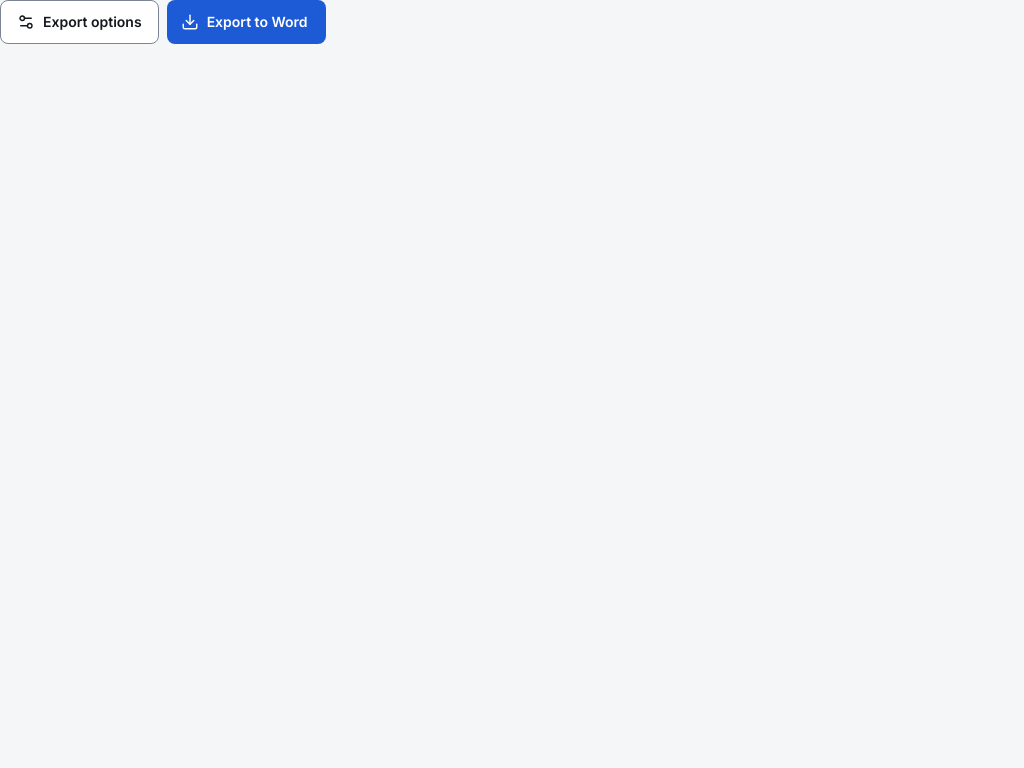
ExportOptions › saves, loads and deletes a preset; Default can't be deleted
Later steps or results of the test are not shown.
Step 1. Click the button "Export options" → (79, 22), box [0,0,159,44]
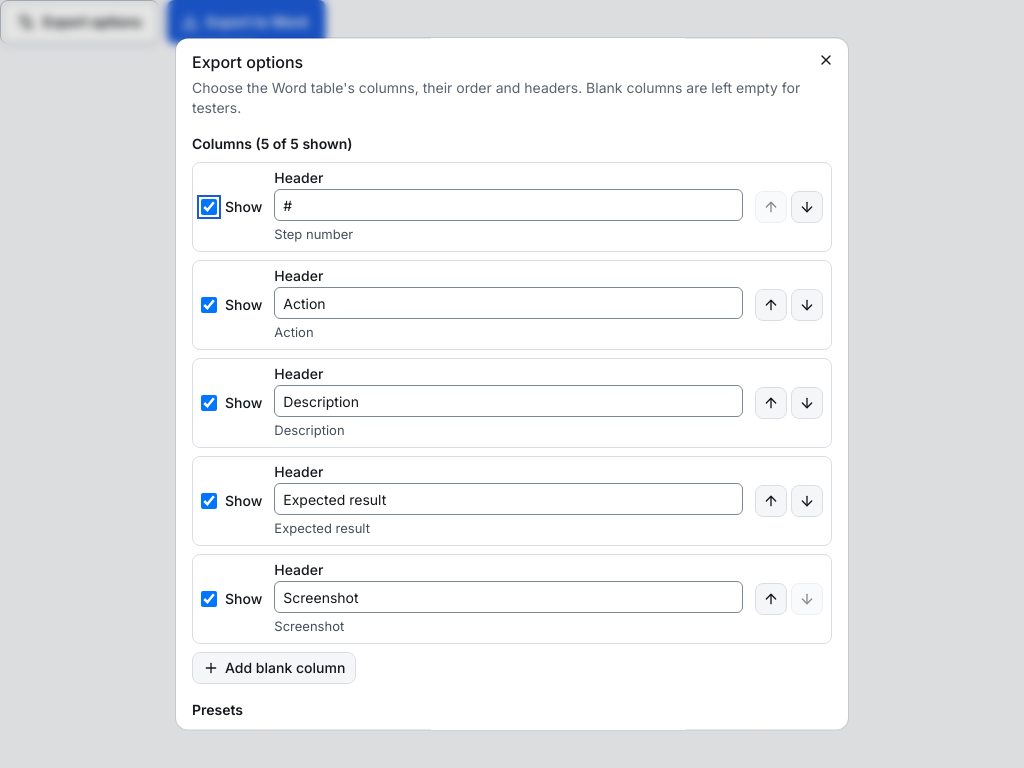
Step 2. Replace the text in the field named "Header for Action column" with "Step" → (509, 303), box [274,287,743,319]
(page scrolled)
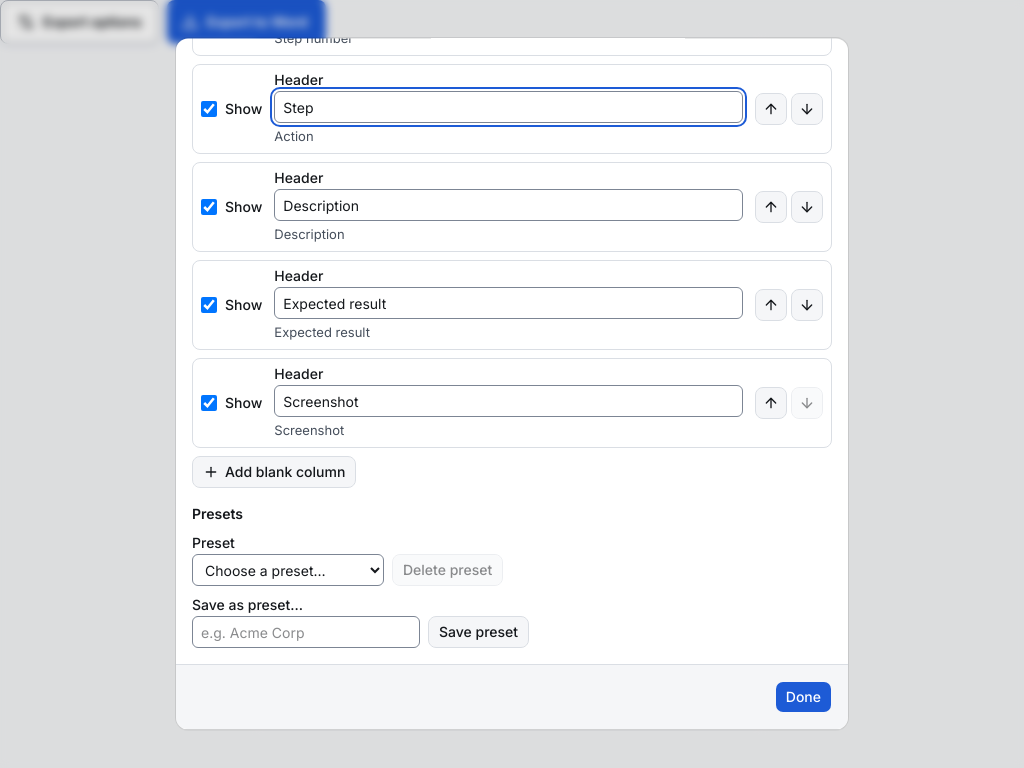
Step 3. Type "Acme Corp" into the field labelled "Save as preset…" → (306, 632), box [192,616,420,648]
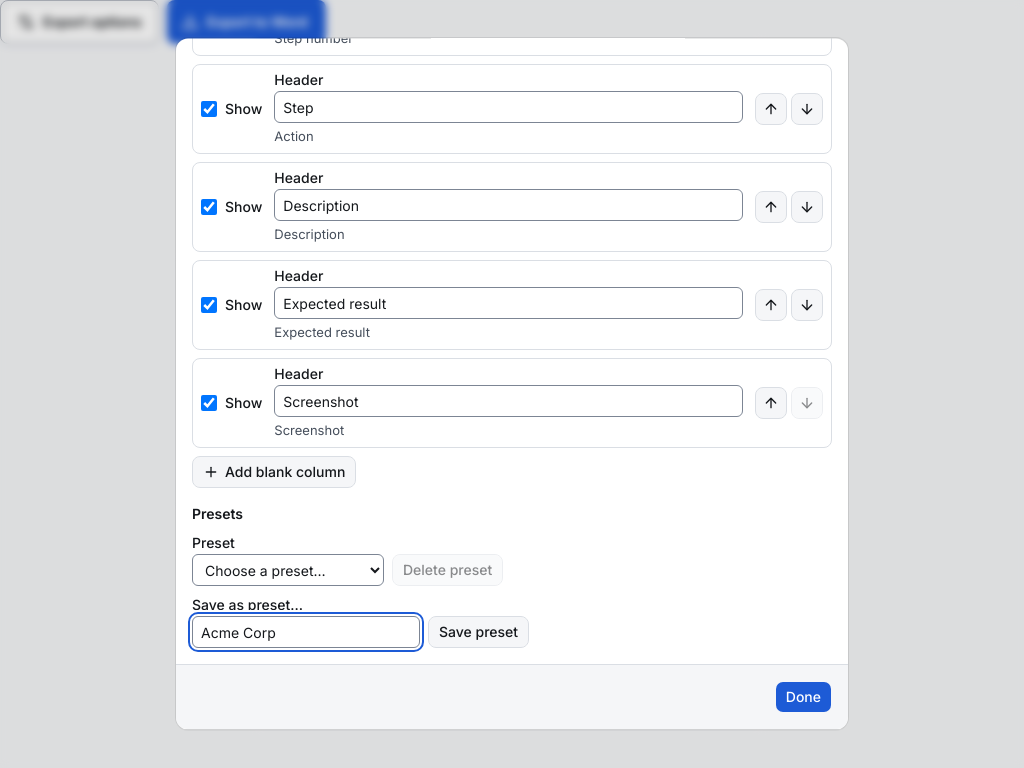
Step 4. Click the button "Save preset" → (479, 632), box [428,616,529,648]
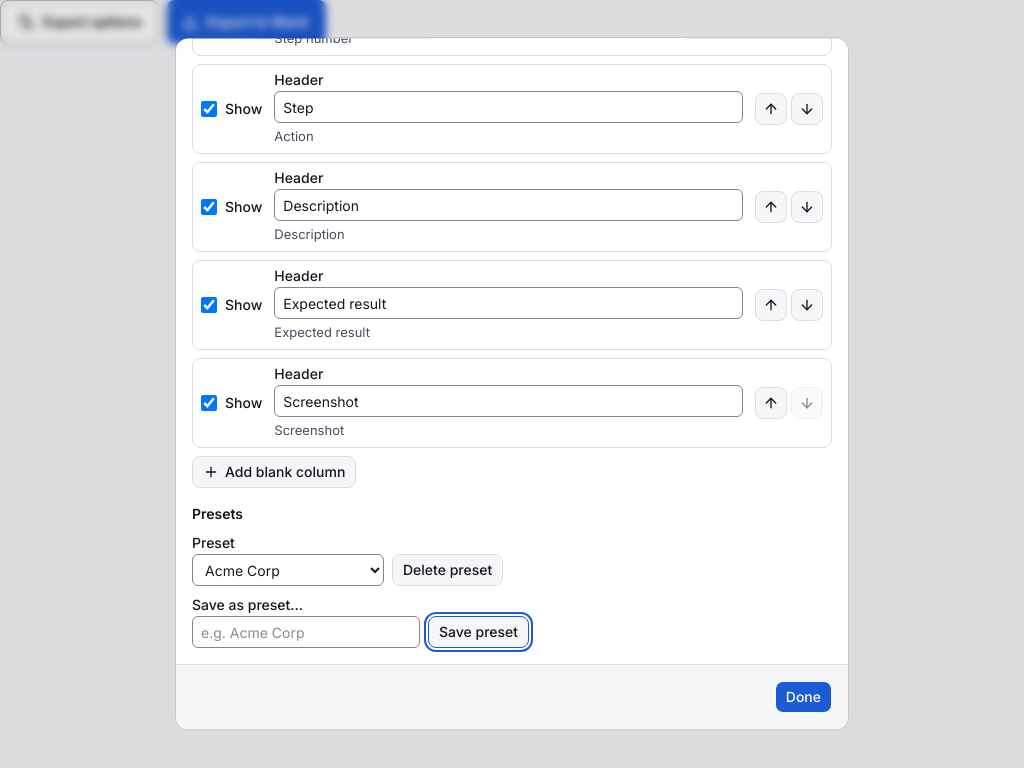
Step 5. Select "Default" in the dropdown labelled "Preset" → (288, 570), box [192,554,384,586]
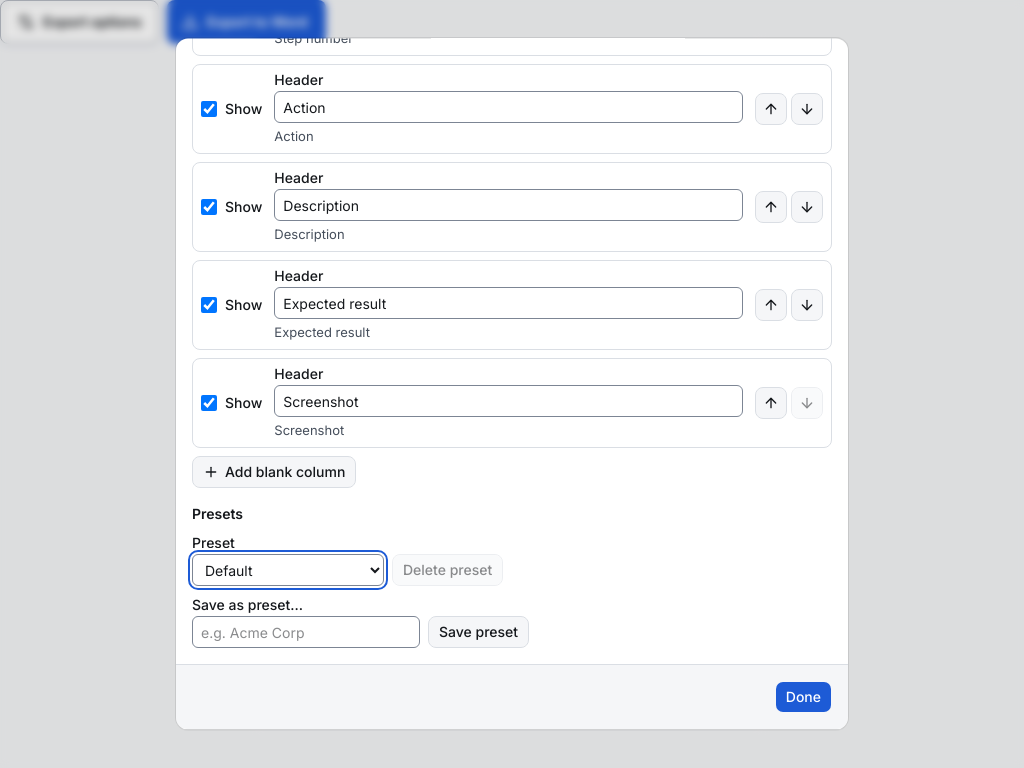
Check: the field named "Header for Action column" holds "Action", box [274,91,743,123]
